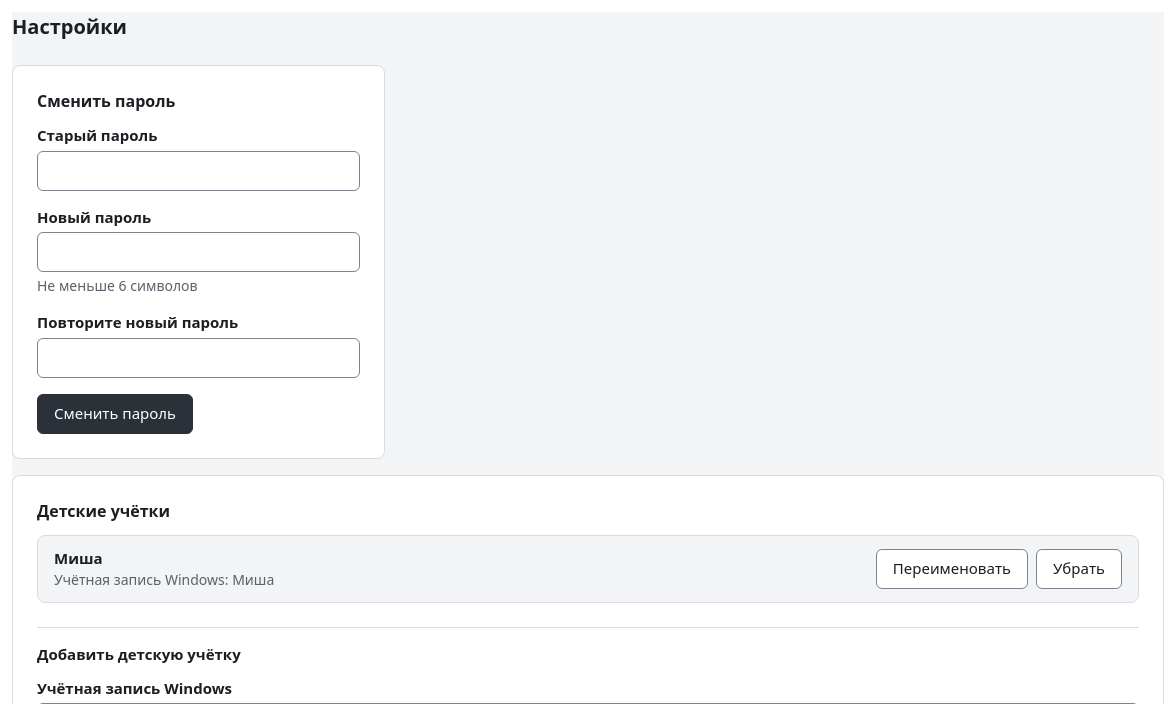
Test: Settings: сменить пароль › служба: неверный старый пароль - у поля старого пароля
The width and height of the screenshot is (1164, 704).
Type "не тот" into the password field labelled "Старый пароль".
click(199, 171); type("не тот")  # box [37,151,360,191]
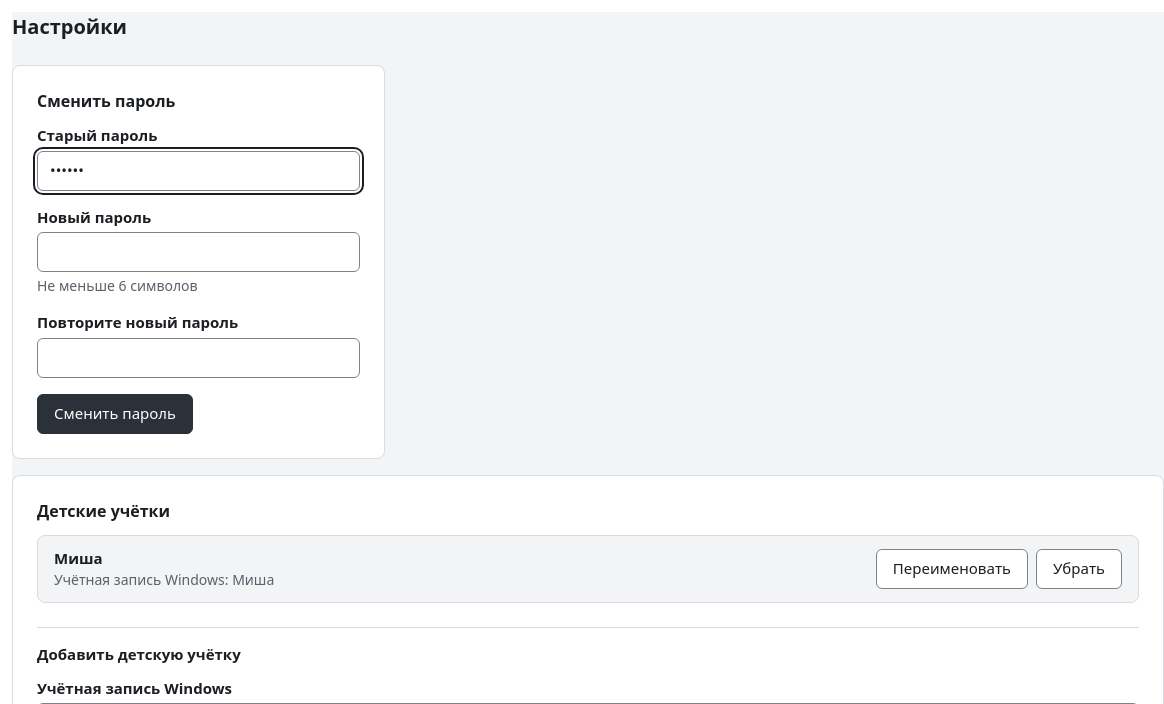
Type "новый-секрет" into the password field labelled "Новый пароль".
click(199, 252); type("новый-секрет")  # box [37,232,360,272]
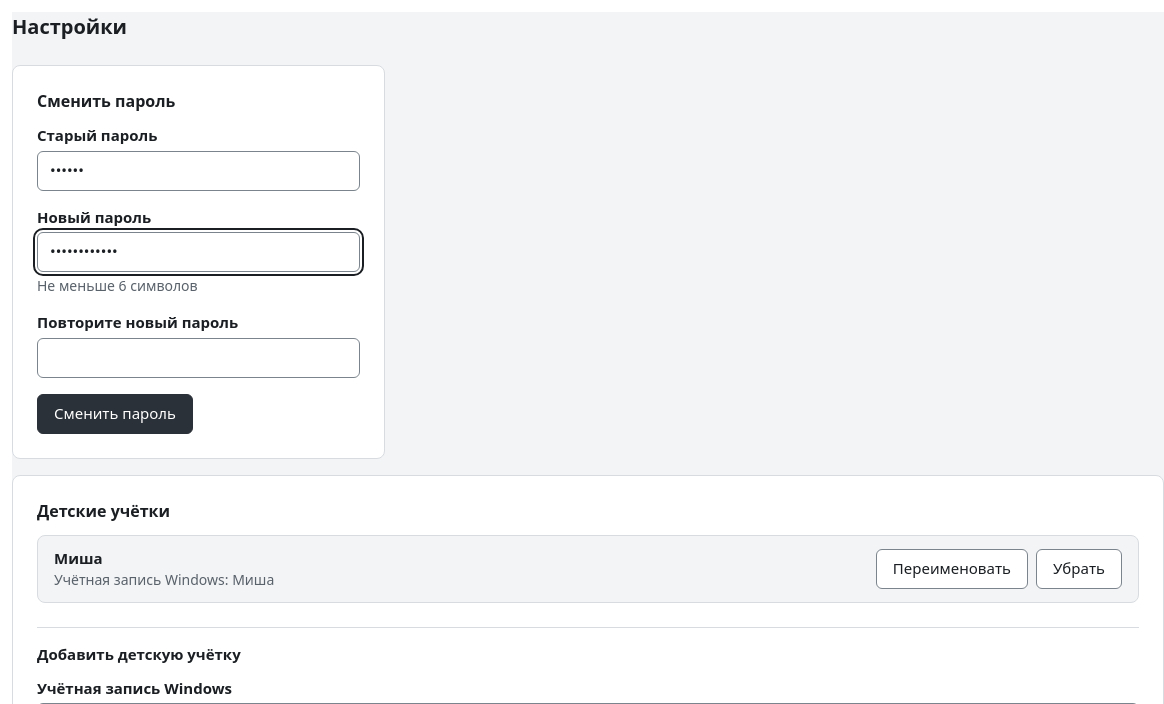
Type "новый-секрет" into the password field labelled "Повторите новый пароль".
click(199, 358); type("новый-секрет")  # box [37,338,360,378]
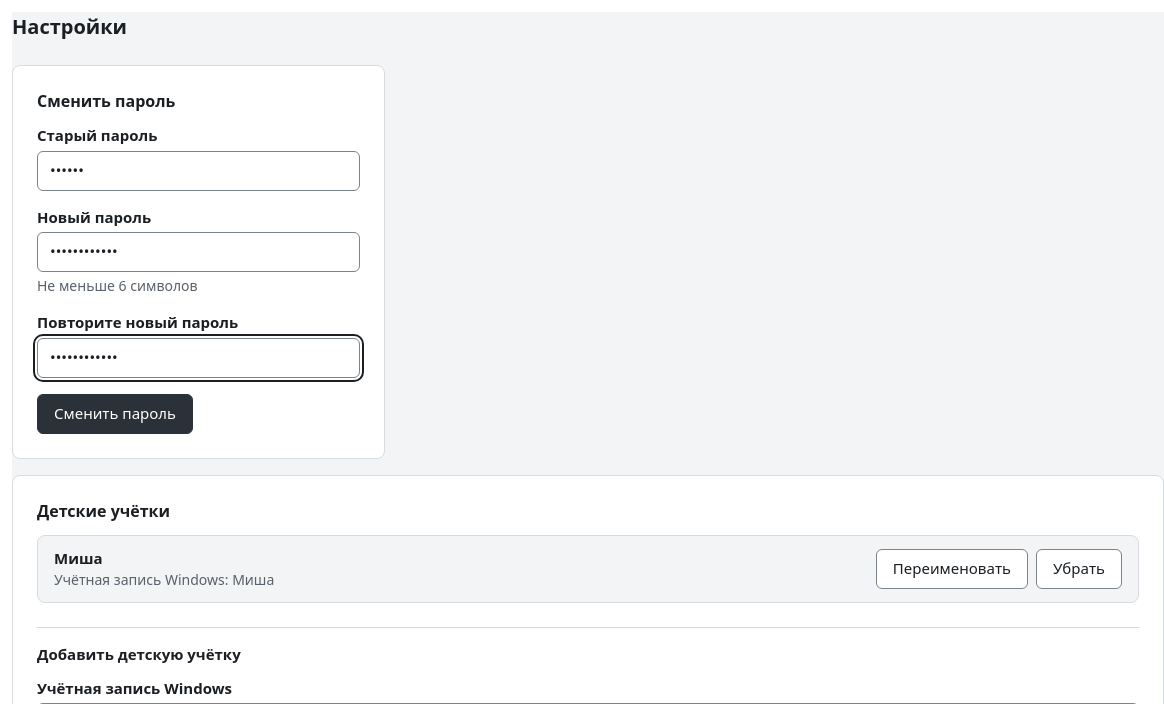
Click the button "Сменить пароль".
click(115, 414)  # box [37,394,193,434]
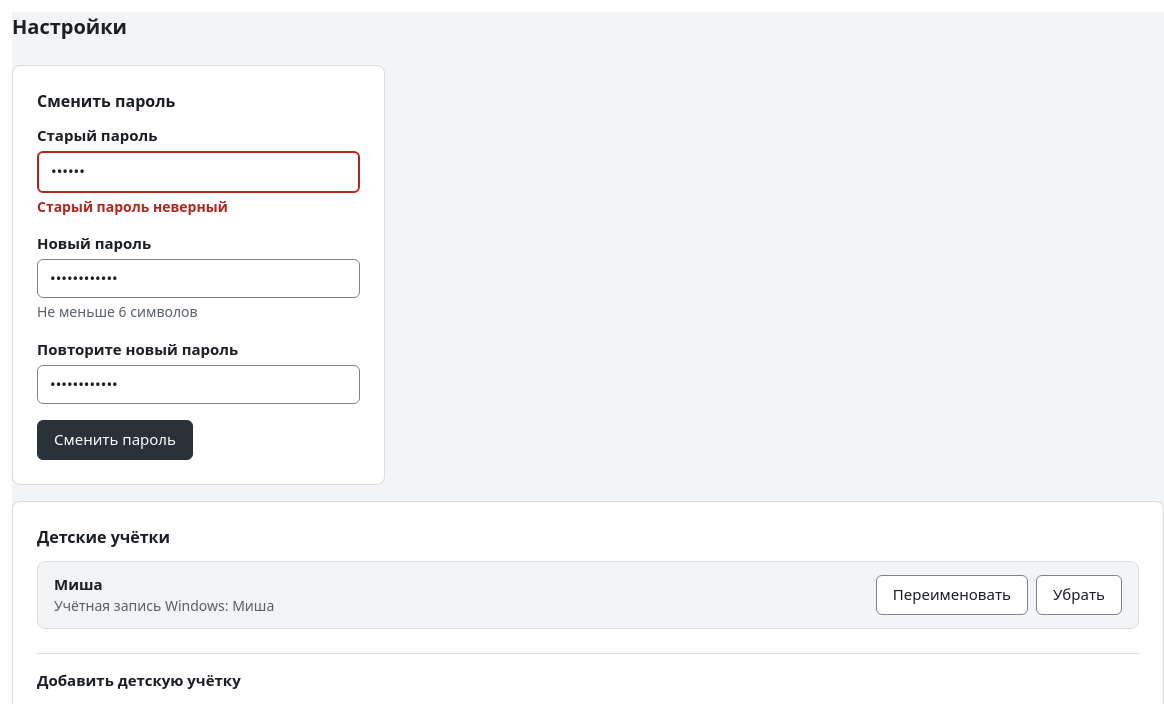
expect the message reads "Старый пароль неверный": met, box [37,197,228,216]
